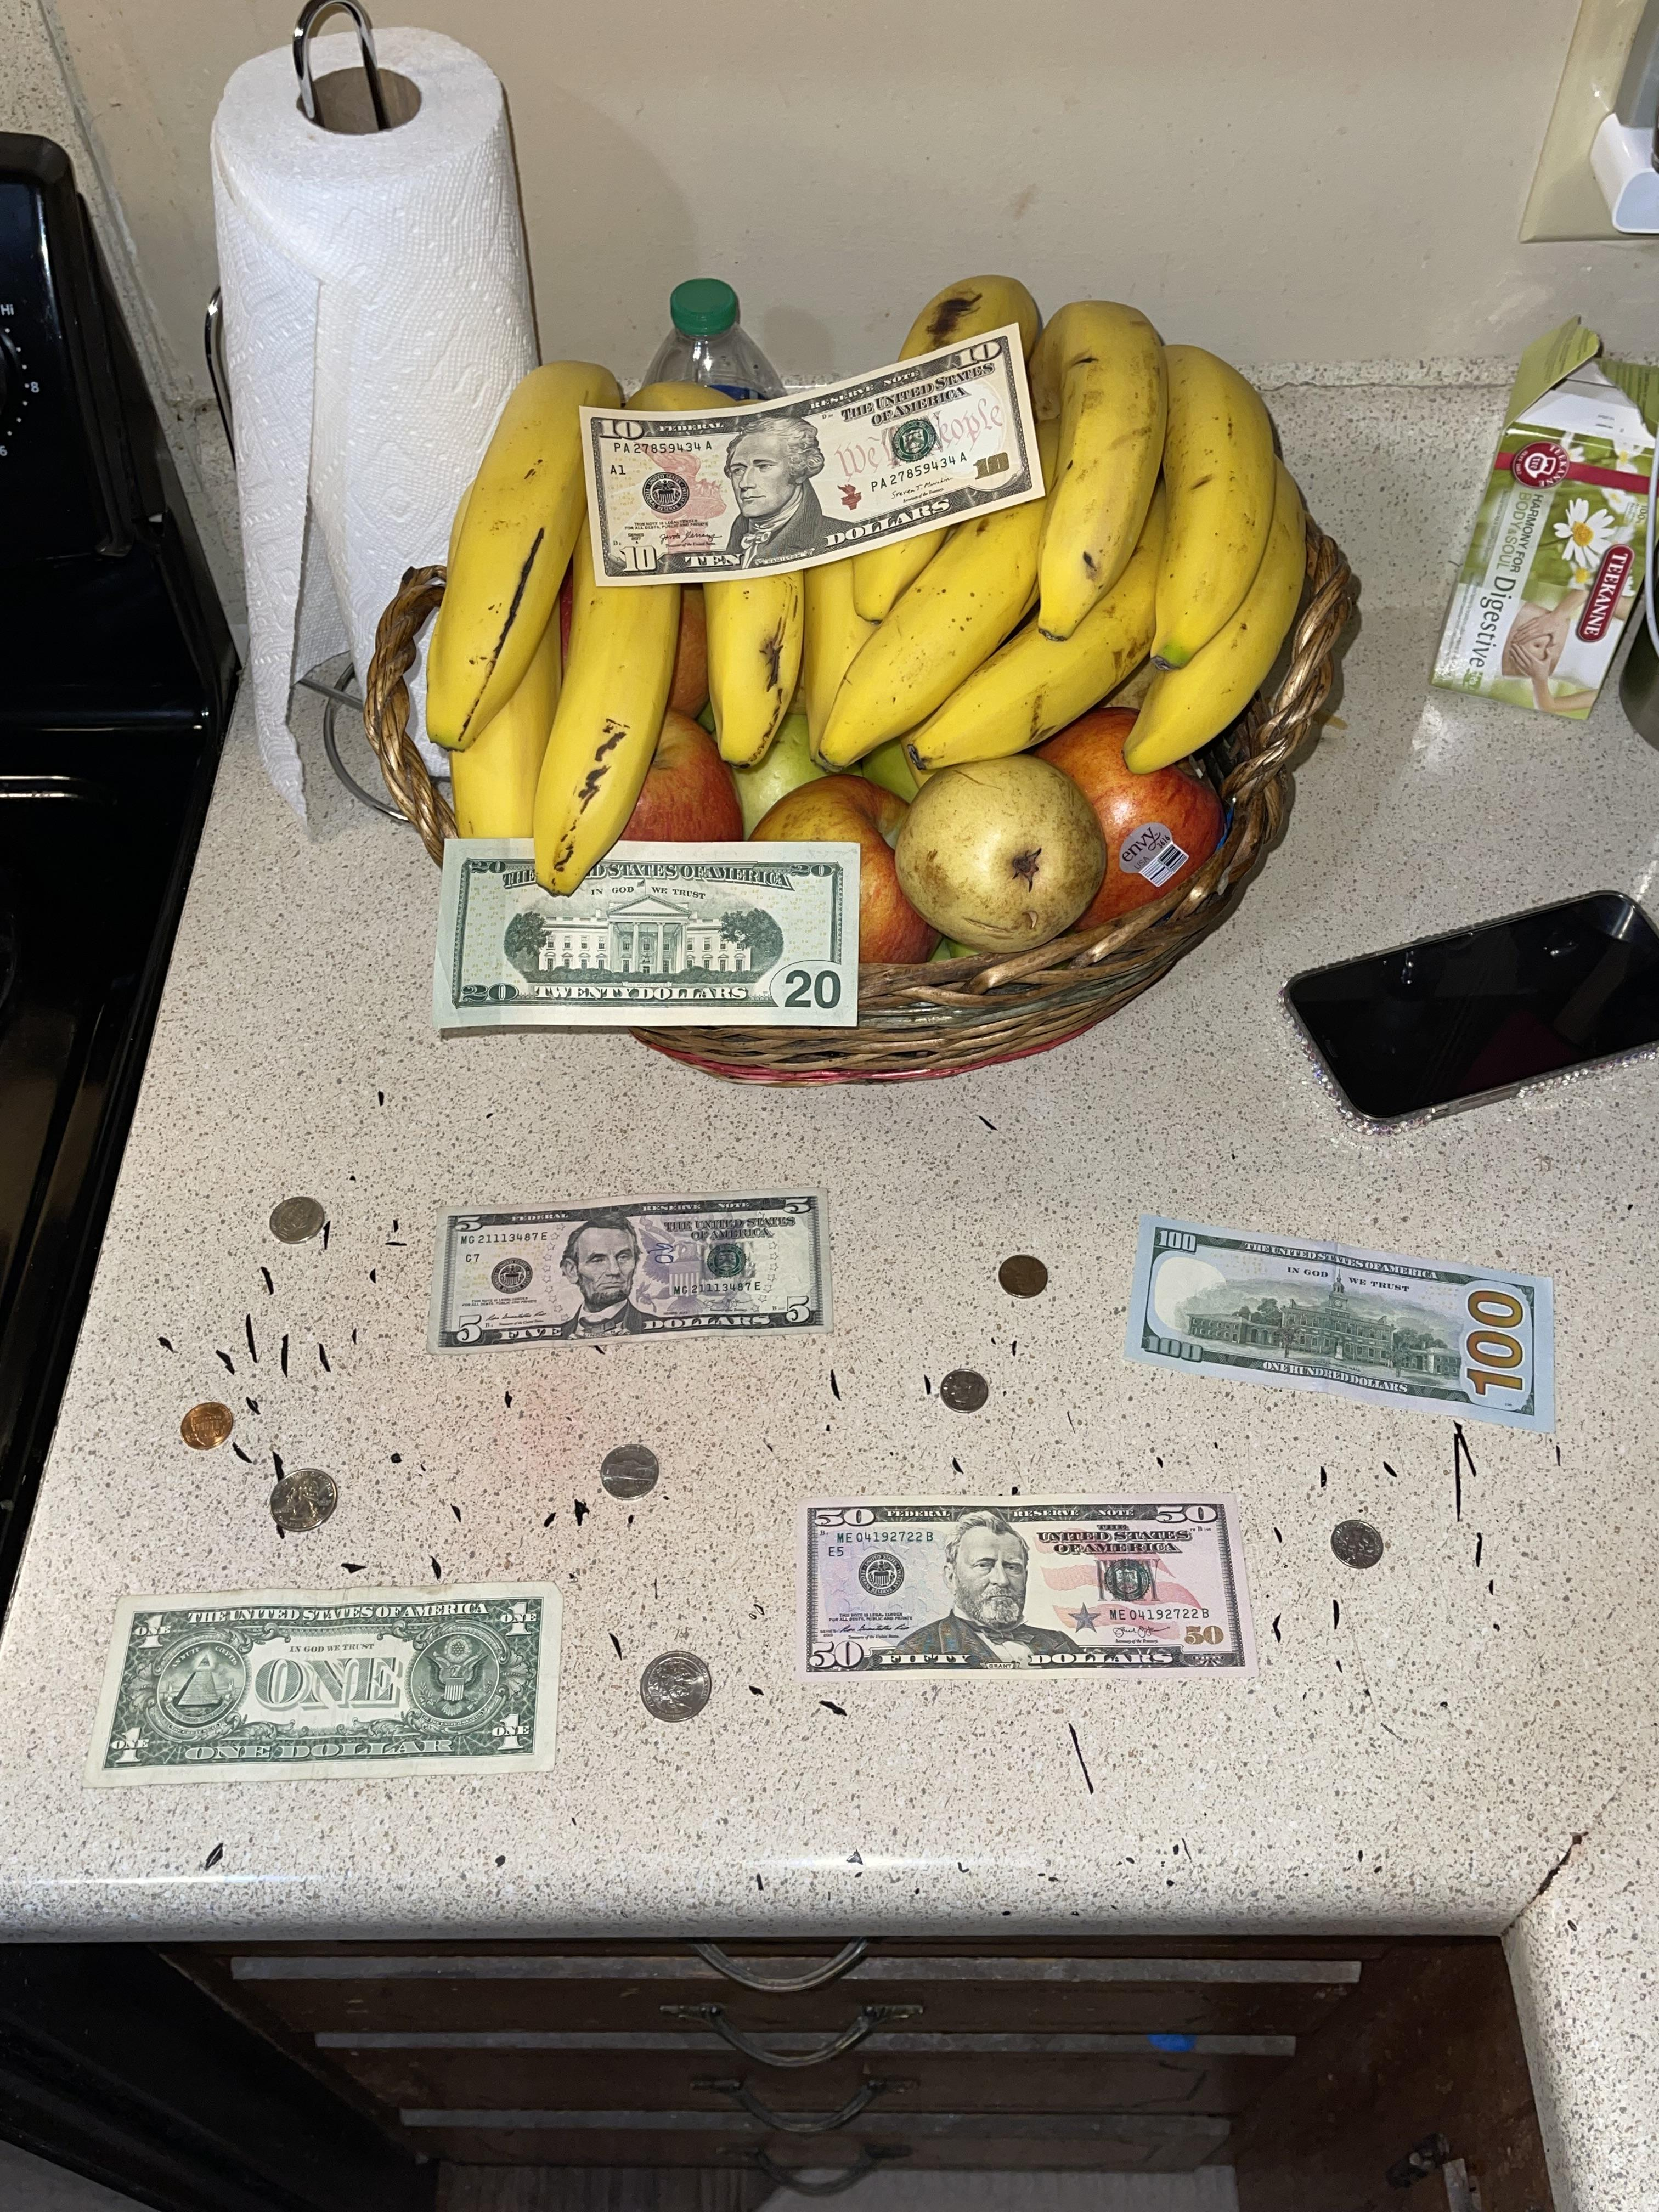Dime: (1330, 1519, 1385, 1569), (938, 1367, 986, 1414)
FiftyBill: (795, 1491, 1262, 1684)
FiveBill: (423, 1186, 836, 1357)
HundredBill: (1121, 1212, 1556, 1437)
Nickel: (598, 1444, 659, 1501), (270, 1197, 324, 1247)
OneBill: (80, 1578, 563, 1792)
Penny: (179, 1402, 234, 1453), (997, 1254, 1047, 1299)
Quarter: (640, 1651, 713, 1723), (270, 1468, 338, 1533)
TenBill: (579, 320, 1047, 589)
TwentyBill: (430, 836, 863, 1031)
